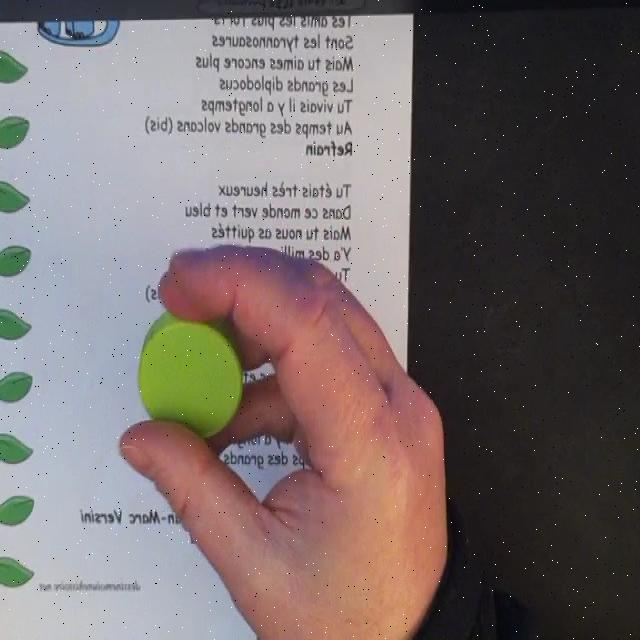round: (138, 310, 245, 440)
